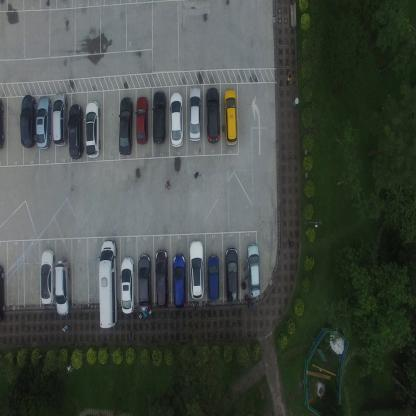car: (98, 239, 119, 328), (118, 94, 134, 157), (84, 100, 101, 159), (54, 258, 71, 317), (188, 238, 204, 300), (205, 85, 221, 145), (168, 90, 184, 149), (52, 89, 68, 148), (137, 252, 152, 313), (20, 93, 36, 149), (223, 88, 238, 147), (68, 102, 83, 161), (36, 95, 52, 150), (120, 256, 135, 314), (40, 248, 55, 306), (224, 247, 239, 304), (188, 84, 202, 144), (155, 249, 169, 309), (247, 242, 261, 298), (172, 252, 186, 308), (152, 89, 166, 144), (135, 94, 149, 146), (206, 253, 219, 302), (0, 264, 6, 320), (0, 95, 5, 152)
